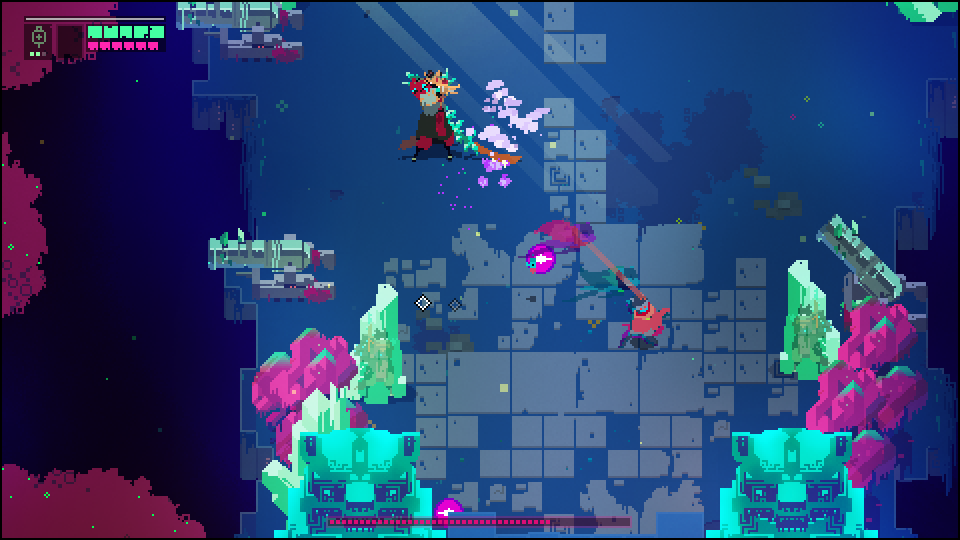hanged_man: (398, 66, 485, 164)
hanged_shot: (525, 243, 556, 278)
player: (628, 292, 665, 353)
